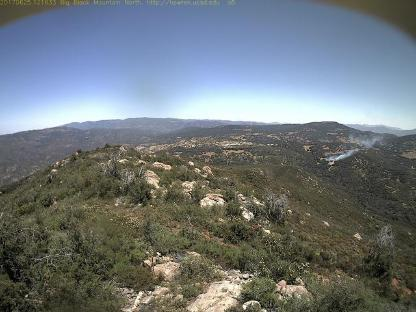smoke: (324, 134, 380, 160)
